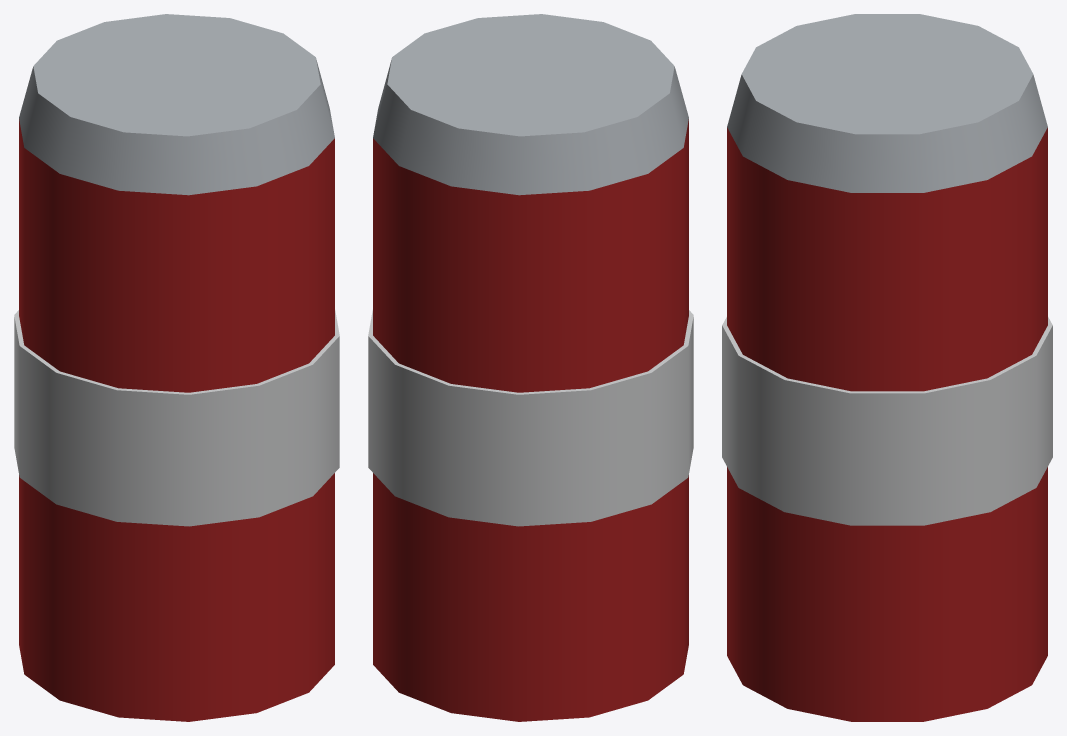
File: soda.glb
3 renders of one model, left to right at view 1: azimuth 30°, elevation 25°; view 2: azimuth 150°, elevation 25°; view 3: azimuth 270°, elevation 25°, orthographic.
Parts seen in each view (by area): view 1: soda; view 2: soda; view 3: soda.
Boxes of the visible parts, left/top/right/bottom form: soda: left=14, top=14, right=339, bottom=721; soda: left=368, top=14, right=693, bottom=721; soda: left=722, top=14, right=1052, bottom=721.
Bounding box in the file's own units: 0.0663 × 0.132 × 0.068.
